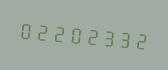three: (97, 21, 112, 52), (113, 22, 128, 53)
two: (81, 19, 96, 51), (33, 15, 48, 46), (49, 17, 64, 48), (129, 24, 144, 55)
zero: (17, 14, 32, 45), (65, 18, 80, 49)
